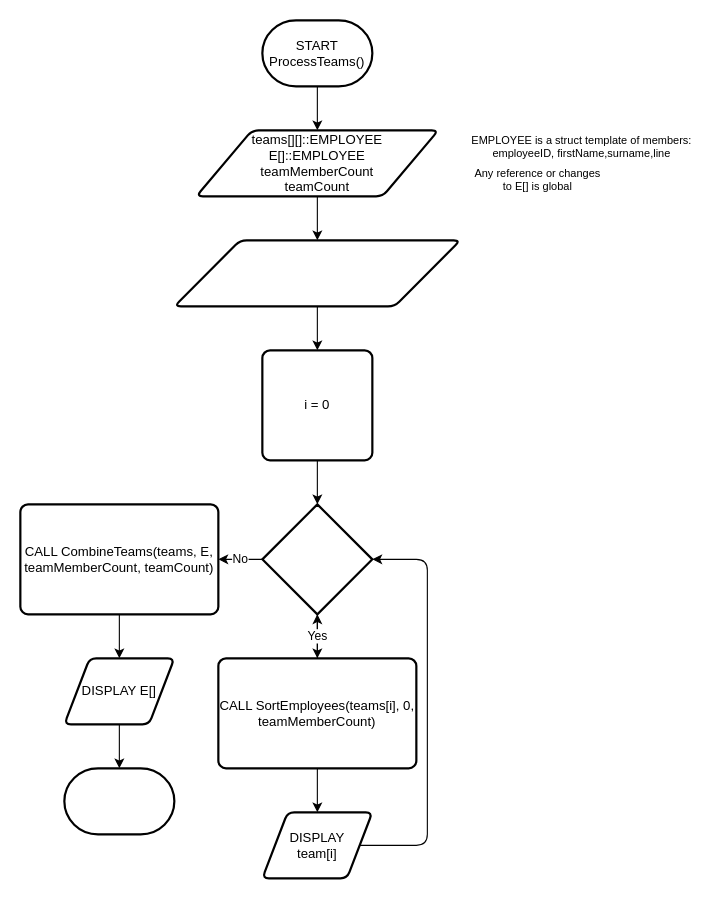
The diagram is 721 pixels wide and 898 high, and some of its shapes have lost their labels. The shapes that lost their labels are listed below. From the top down, each one's box as (x1, y1, x2, y2) in pixels, then its label:
(173, 239, 461, 307): DISPLAY each team separately
(261, 503, 373, 615): i < teamCount
(63, 767, 175, 835): END
